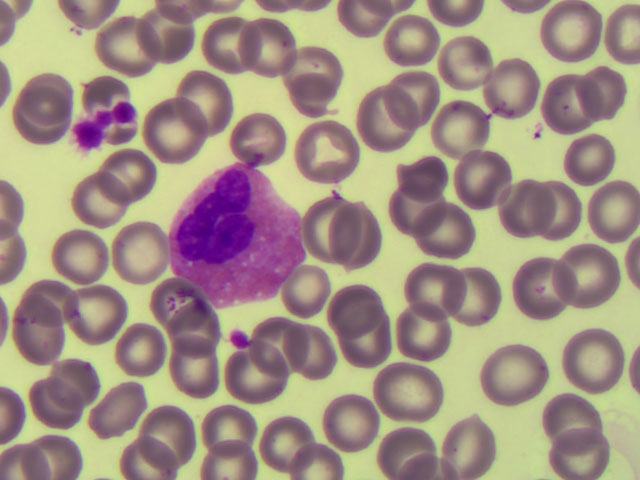Platelets: (226, 325, 250, 355), (74, 122, 96, 146), (116, 103, 136, 127), (98, 106, 114, 130)
RBC: (17, 71, 76, 130), (6, 97, 65, 156), (69, 174, 128, 233), (107, 139, 166, 198), (133, 110, 192, 169), (172, 74, 231, 133), (103, 21, 162, 80), (120, 9, 179, 68), (196, 15, 255, 74), (244, 22, 303, 81), (289, 36, 348, 95), (303, 113, 362, 172), (238, 111, 297, 170), (297, 191, 356, 250), (340, 206, 399, 265), (275, 268, 334, 327), (286, 322, 345, 381), (247, 318, 306, 377), (214, 366, 273, 425), (172, 346, 231, 405), (147, 308, 206, 367), (140, 276, 199, 335), (113, 230, 172, 289), (54, 231, 113, 290), (78, 294, 137, 353), (28, 275, 87, 334), (16, 314, 75, 373), (46, 353, 105, 412), (21, 378, 80, 437), (97, 380, 156, 439), (143, 400, 202, 459), (122, 421, 181, 480), (203, 382, 262, 441), (205, 421, 264, 480), (261, 412, 320, 471), (290, 421, 349, 480), (323, 388, 382, 447), (371, 355, 430, 414), (335, 309, 394, 368), (321, 275, 380, 334), (388, 295, 447, 354), (409, 254, 468, 313), (422, 202, 481, 261), (381, 182, 440, 241), (393, 144, 452, 203), (356, 88, 415, 147), (388, 65, 447, 124), (386, 12, 445, 71), (438, 35, 497, 94), (483, 58, 542, 117), (438, 103, 497, 162), (455, 150, 514, 209), (496, 184, 555, 243), (532, 176, 591, 235), (551, 124, 610, 183), (539, 70, 598, 129), (570, 54, 629, 113), (541, 5, 600, 64), (581, 180, 640, 239), (564, 247, 623, 306), (507, 262, 566, 321), (454, 270, 513, 329), (483, 352, 542, 411), (543, 331, 602, 390), (538, 391, 597, 450), (544, 421, 603, 480), (438, 421, 497, 480), (371, 421, 430, 480), (21, 421, 80, 480)
WBC: (174, 168, 303, 304)
